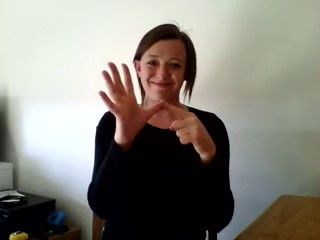A: (93, 58, 205, 158)
